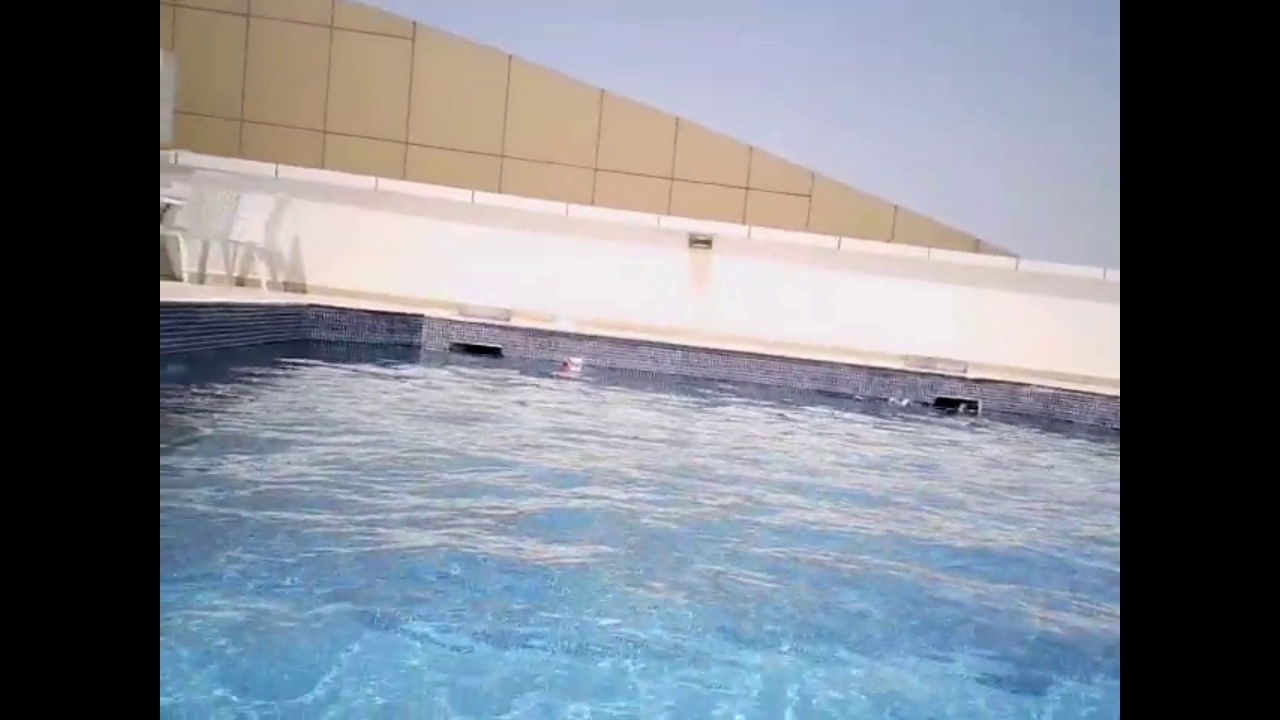debris: (561, 353, 586, 377), (886, 395, 907, 411), (893, 399, 916, 411), (957, 401, 970, 414), (850, 391, 863, 403)
